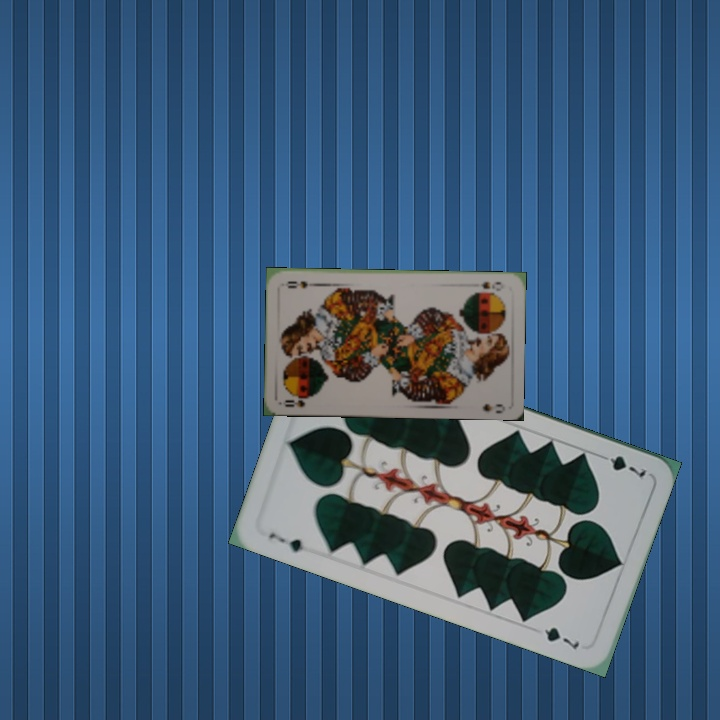G7: (593, 449, 648, 480), (264, 528, 306, 555)
SO: (280, 392, 316, 410), (469, 277, 504, 291)
